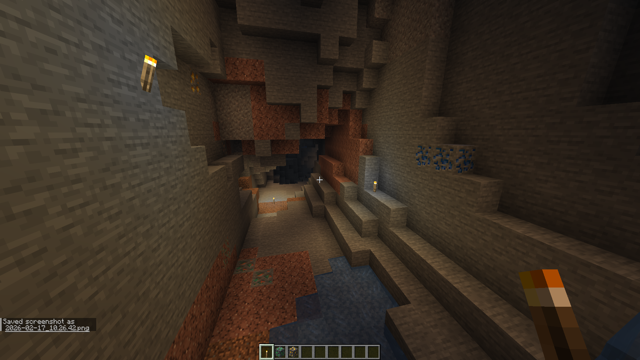copper: (234, 258, 271, 288)
gold: (190, 72, 202, 96)
lapis: (415, 140, 477, 173)
